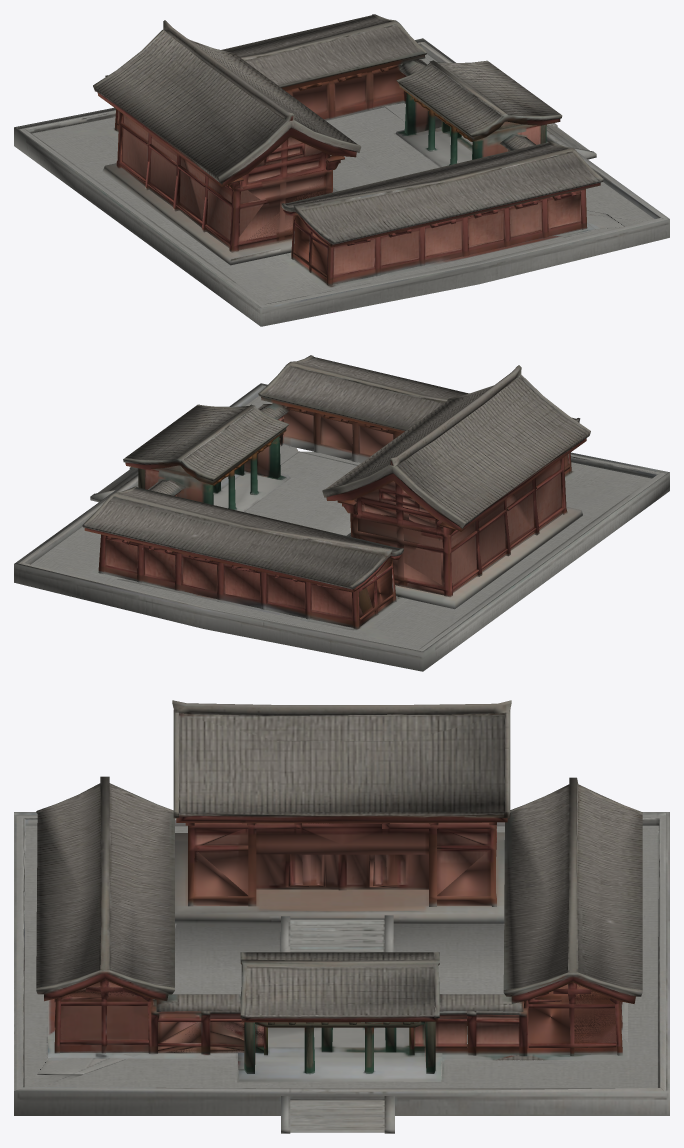
Rendered from office_polish_v2.fbx.
3 views of the same model, one above another, from view 1: azimuth 30°, elevation 25°; view 2: azimuth 150°, elevation 25°; view 3: azimuth 270°, elevation 25° (orthographic). The views are drawn at different scales.
Visible parts, largest first — view 1: tripo_node_27ca205d; view 2: tripo_node_27ca205d; view 3: tripo_node_27ca205d.
Part boxes in pixels (x1,y1,x2,y2): tripo_node_27ca205d: (14, 14, 669, 326); tripo_node_27ca205d: (14, 355, 669, 671); tripo_node_27ca205d: (14, 700, 669, 1133).
Bounding box in the file's own units: 99.8 × 34.57 × 97.85.
